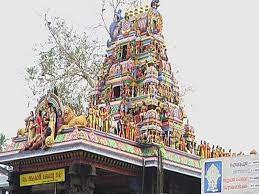Temple: (13, 1, 216, 175)
